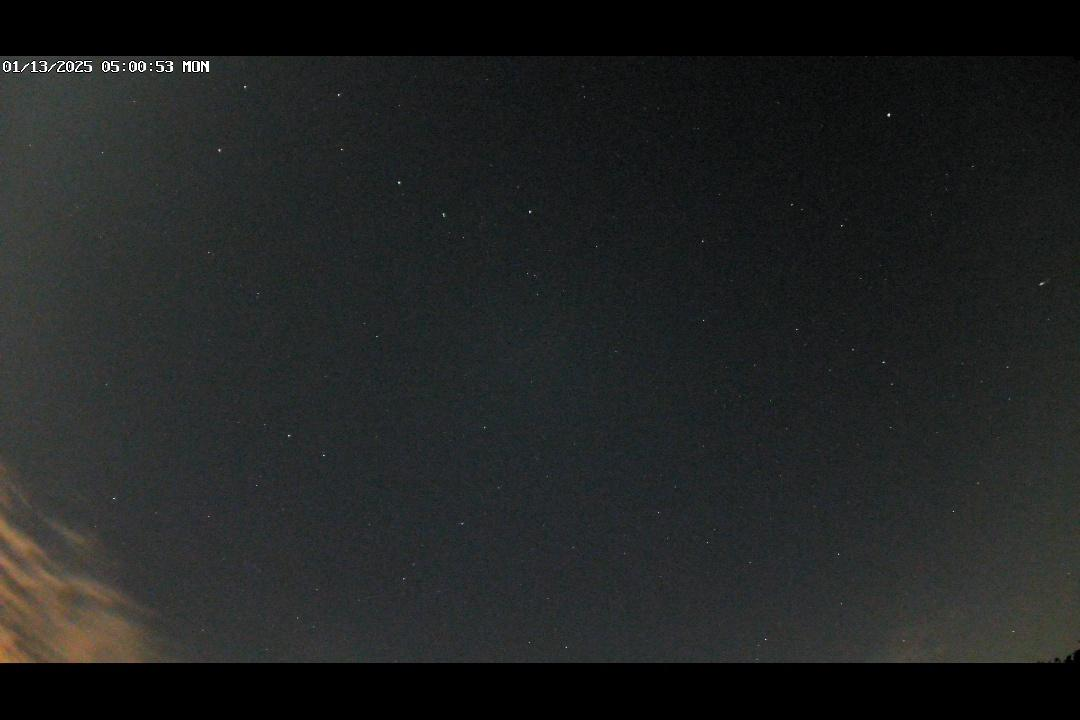Plane: (1027, 264, 1064, 297)
